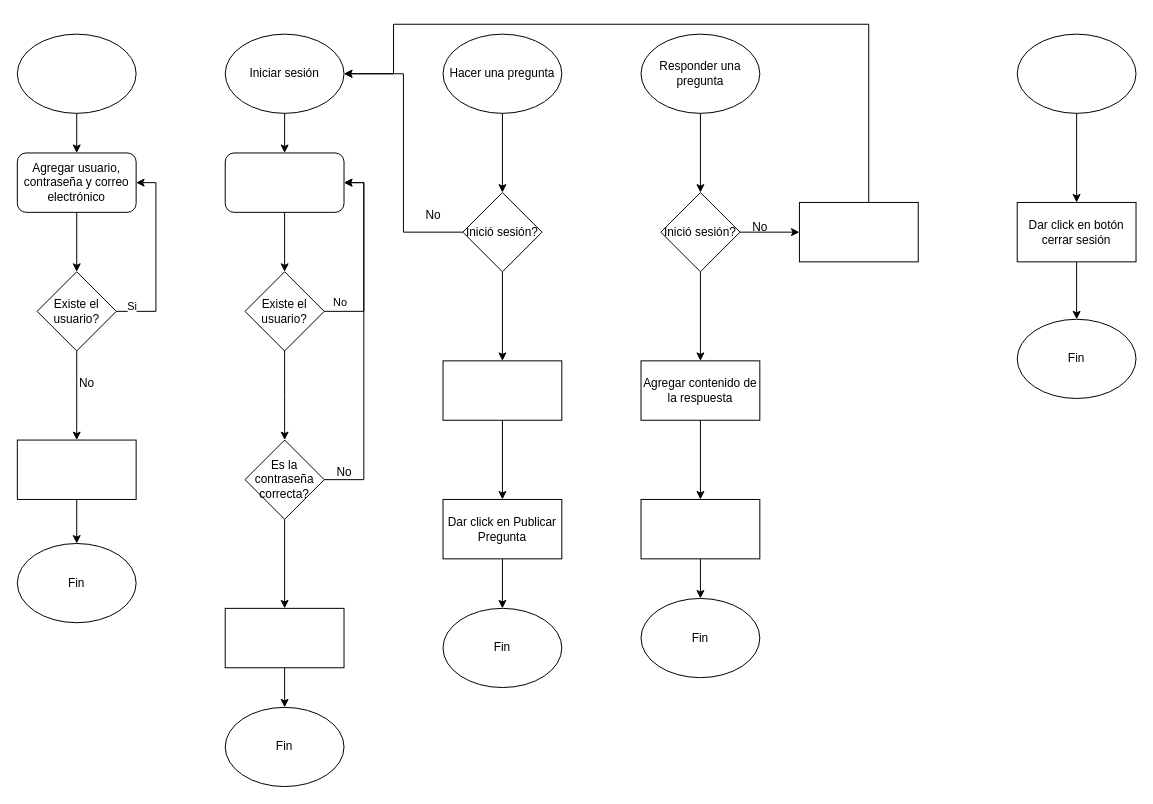
This 1153x804 diagram has some shape labels left out. The shapes that lost their labels are listed below. From the top down, each one's centre as x and y in pixels, then its label:
[76,73]: Crear Cuenta
[1076,73]: Cerrar Sesión
[284,182]: Agregar usuario, contraseña
[858,231]: Dar click en link que manda a iniciar sesión
[502,390]: Agregar título y contenido de la pregunta
[76,469]: Crear cuenta e ir a inicio de sesión
[700,528]: Dar click en enviar respuesta
[284,637]: Iniciar sesión e ir a Inicio
